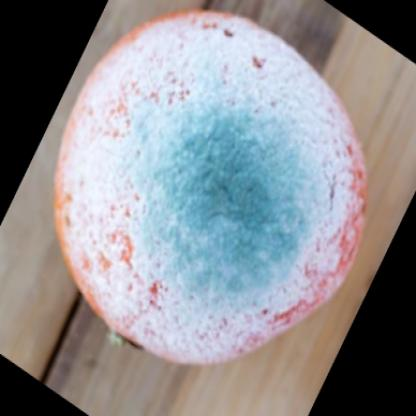rotten: (54, 10, 366, 368)
